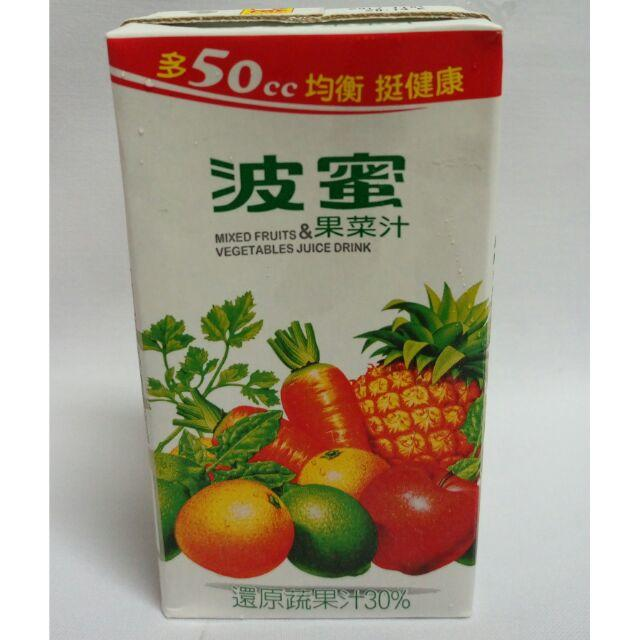vegetables juice: (88, 14, 517, 630)
